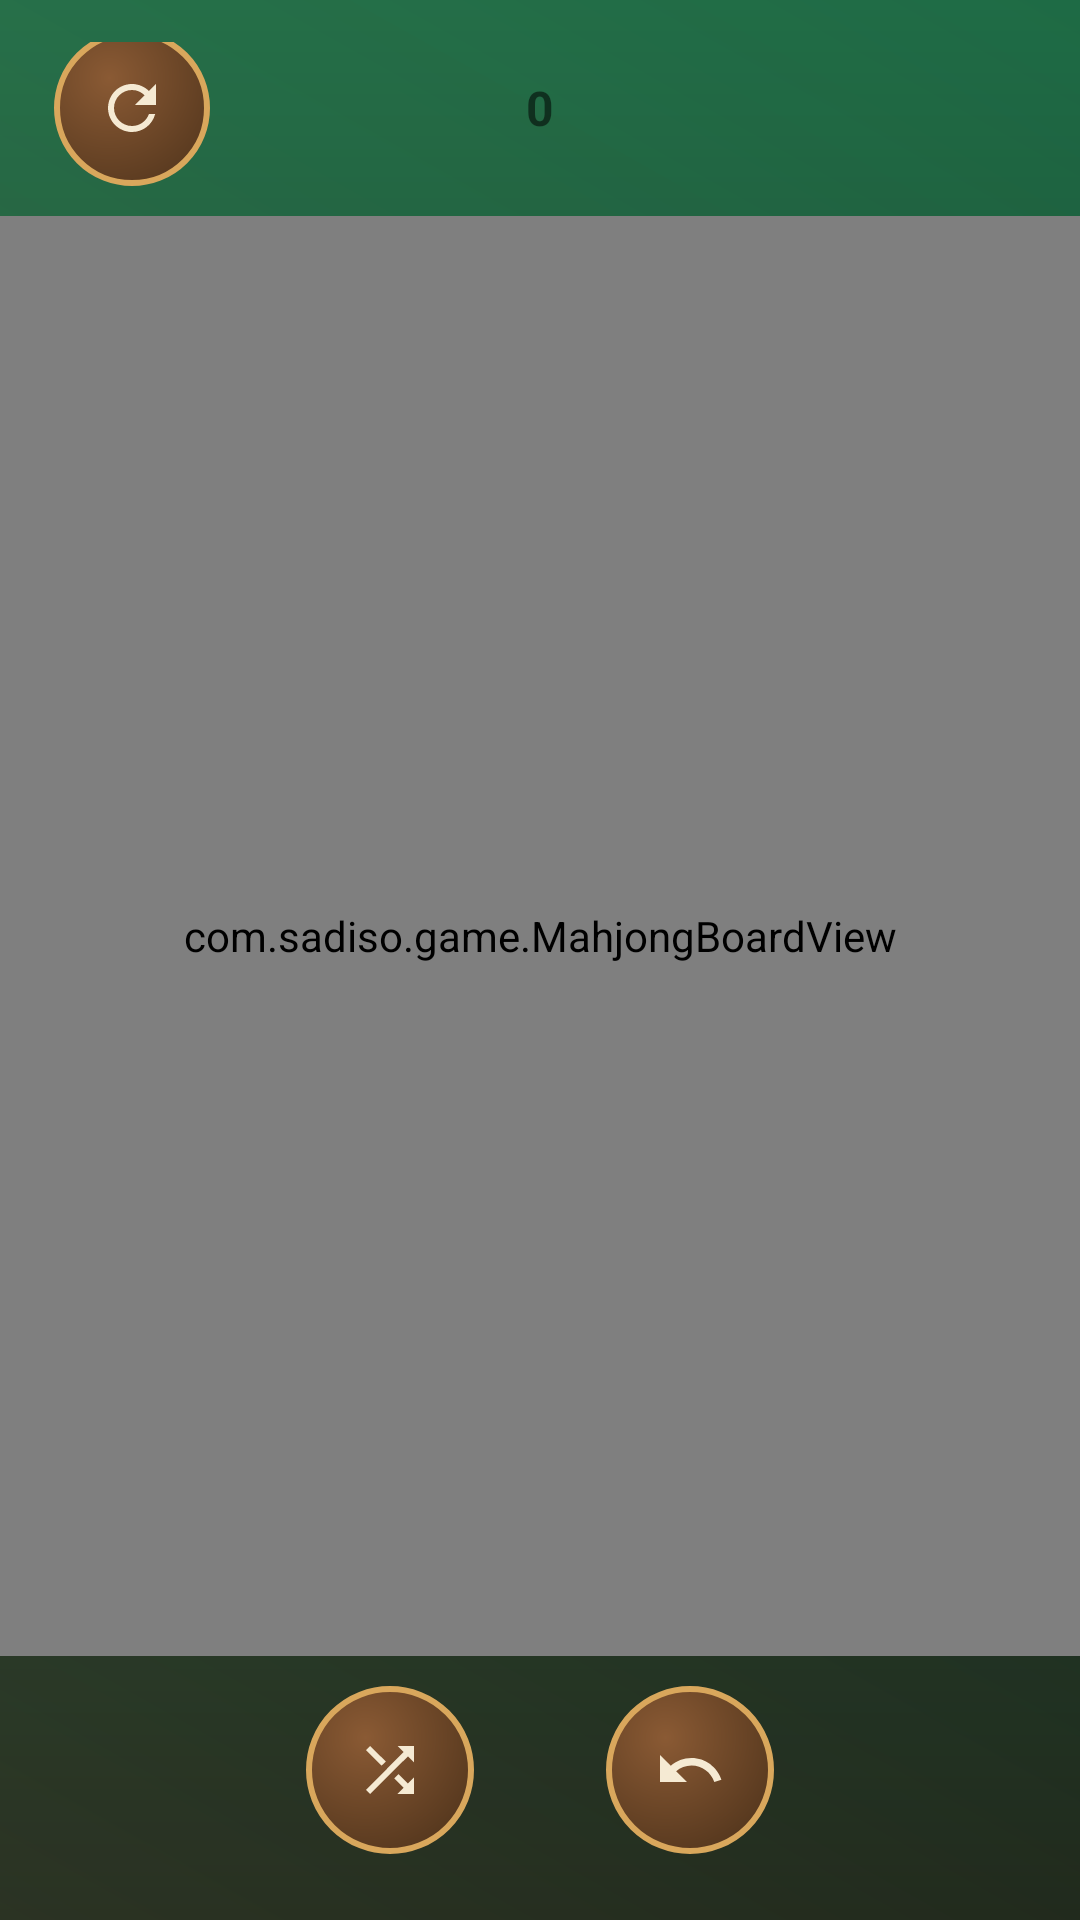

Named icons in this screenshot (1080px x 1920px) and their centers, [x,y]:
Aralashtirish: [390,1770]
Orqaga: [690,1770]
